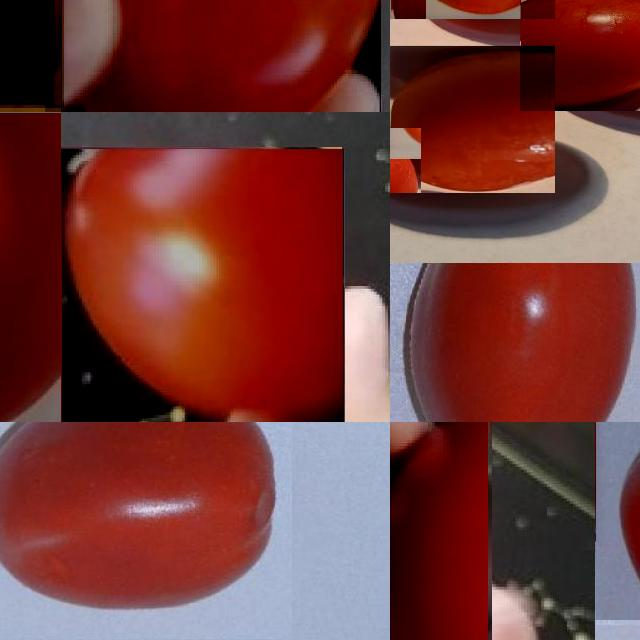Fresh Tomato: (61, 148, 343, 422), (0, 422, 292, 639), (390, 263, 640, 422), (61, 0, 381, 112), (390, 45, 555, 193), (390, 422, 488, 640), (520, 0, 640, 111), (390, 0, 555, 19)
